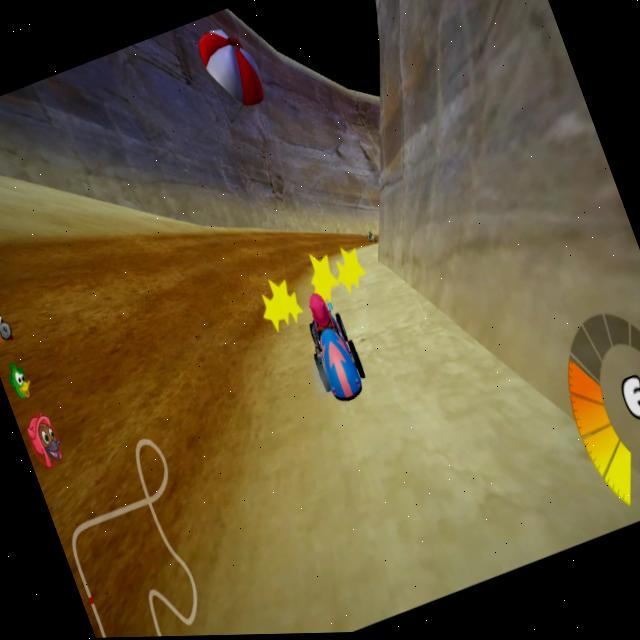off_track: (329, 238, 464, 469)
player_kart: (292, 291, 372, 409)
track: (56, 200, 360, 362)
